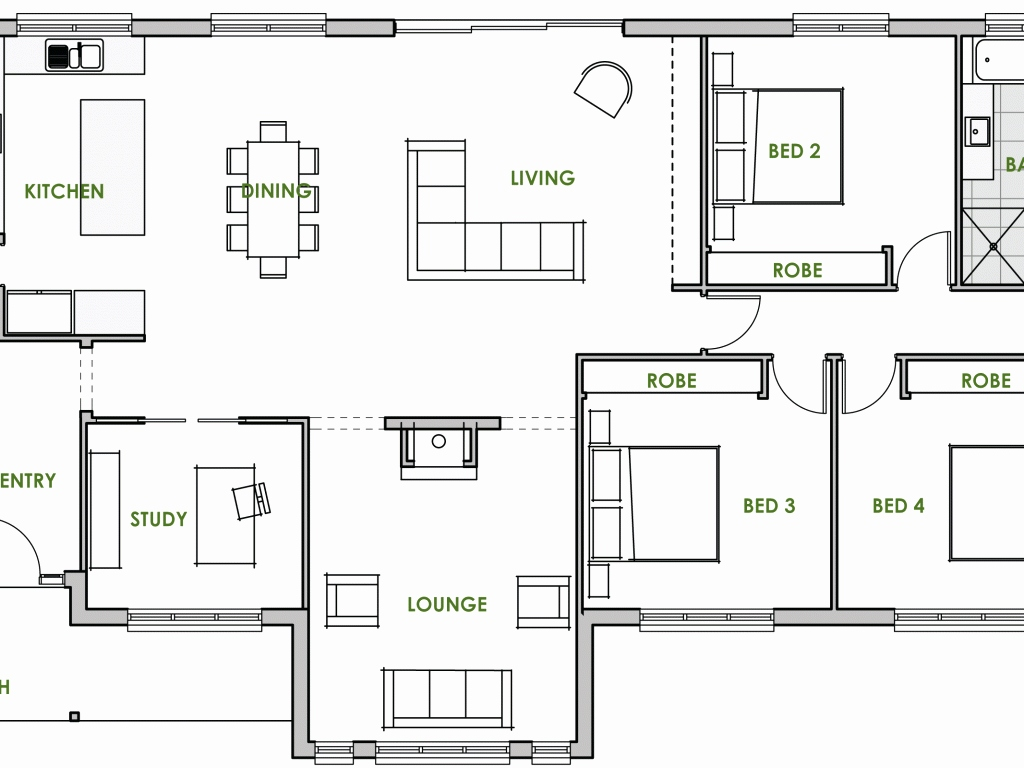door: (704, 291, 768, 353), (889, 226, 953, 288), (768, 362, 830, 415), (836, 360, 898, 413)
room: (700, 18, 963, 292), (574, 352, 837, 626), (79, 417, 311, 627)
window: (392, 17, 625, 38), (124, 605, 262, 634), (373, 739, 509, 767), (639, 605, 774, 633), (16, 13, 133, 37), (209, 13, 326, 37), (791, 13, 889, 38), (313, 740, 354, 767), (529, 741, 570, 767)
